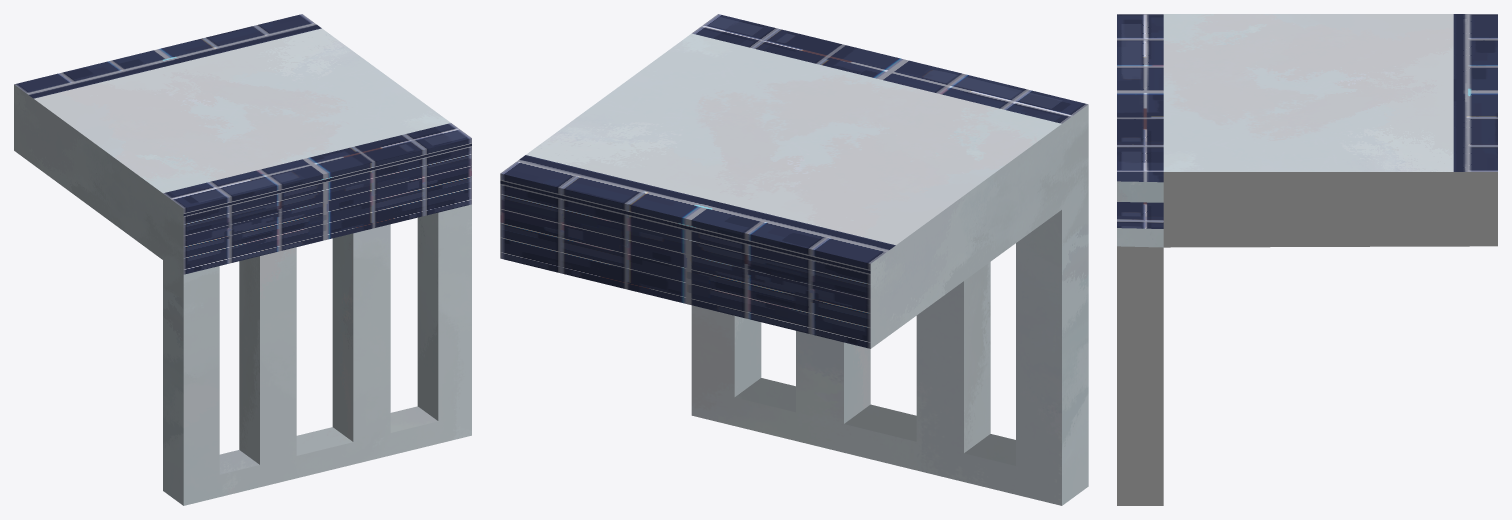
The model's file is FlatStair.fbx.
3 renders of one model, left to right at view 1: azimuth 30°, elevation 25°; view 2: azimuth 150°, elevation 25°; view 3: azimuth 270°, elevation 25°, orthographic. The views are drawn at different scales.
Visible parts, largest first — view 1: FlatStair; view 2: FlatStair; view 3: FlatStair.
Part boxes in pixels (left/top/right/bottom): FlatStair: left=14, top=14, right=471, bottom=505; FlatStair: left=500, top=14, right=1088, bottom=505; FlatStair: left=1117, top=14, right=1497, bottom=505.
Bounding box in the file's own units: 431 × 425 × 439.
Materials: 4 (3 with a texture image).
